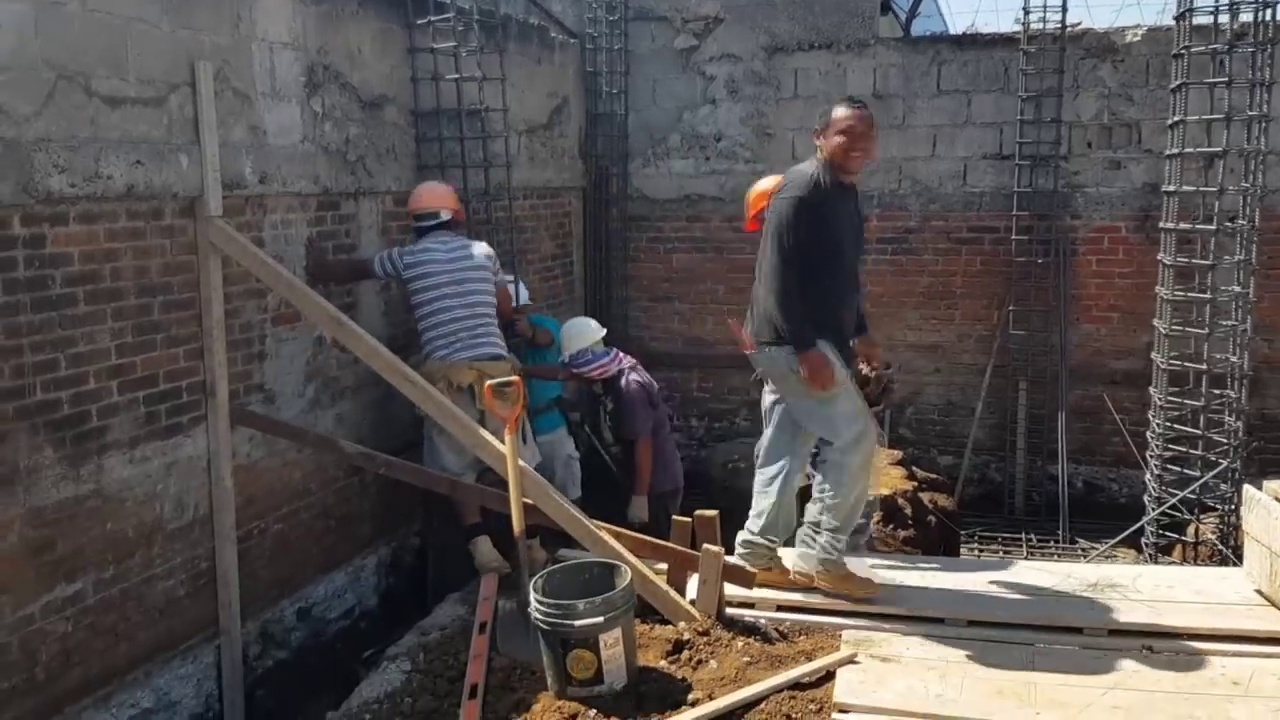helmet: (736, 171, 794, 239), (403, 176, 468, 221), (555, 312, 605, 360), (483, 271, 533, 309)
helmet-off: (816, 96, 886, 185)
helmet-on: (400, 178, 468, 241), (483, 268, 538, 337), (559, 314, 609, 374)
person: (737, 79, 899, 626), (371, 182, 533, 578), (553, 318, 670, 528), (484, 265, 585, 504)
